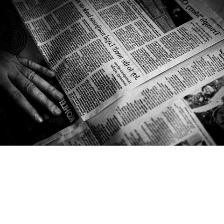news_paper: (0, 0, 223, 149), (40, 35, 224, 146)
